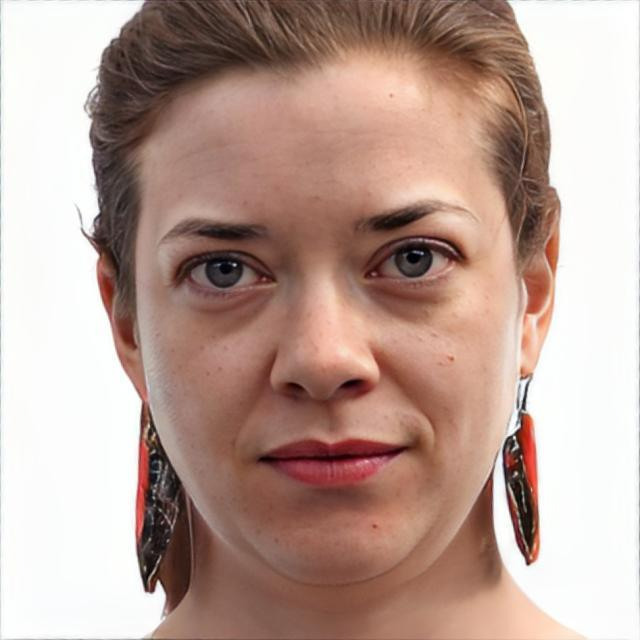content: (135, 36, 522, 582)
